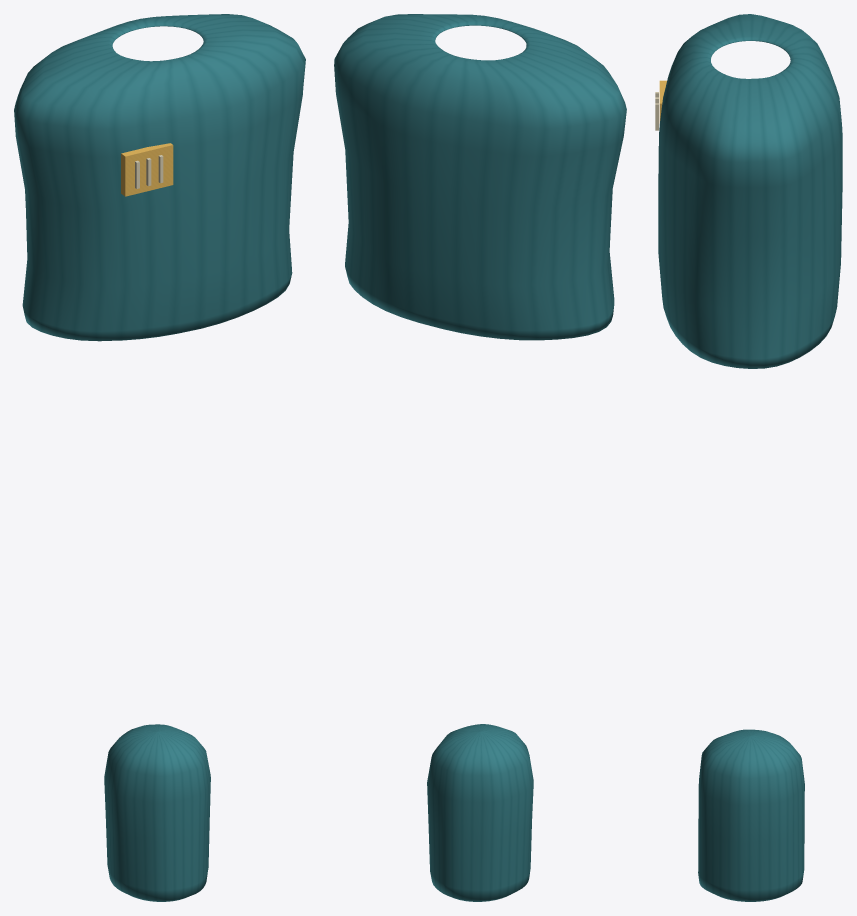
File: campus_pocket_tee.gltf
The picture shows the model from 3 angles, left to right: view 1: azimuth 30°, elevation 25°; view 2: azimuth 150°, elevation 25°; view 3: azimuth 270°, elevation 25°; orthographic projection.
Parts seen in each view (by area): view 1: Torso, SleeveL; view 2: Torso, SleeveL; view 3: Torso, SleeveL.
Boxes of the visible parts, left/top/right/bottom form: Torso: left=14, top=14, right=305, bottom=341; SleeveL: left=104, top=724, right=210, bottom=901; Torso: left=334, top=14, right=626, bottom=340; SleeveL: left=427, top=724, right=533, bottom=901; Torso: left=655, top=14, right=842, bottom=368; SleeveL: left=698, top=729, right=804, bottom=901.
Bounding box in the file's own units: 0.5276 × 1.53 × 0.3143.
Materials: 3 (3 with a texture image).
